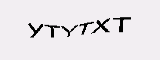Т: (111, 11, 133, 35), (43, 19, 60, 37), (79, 18, 95, 36)
У: (27, 19, 42, 38)
Х: (93, 16, 112, 33)
Ү: (60, 20, 76, 38)
